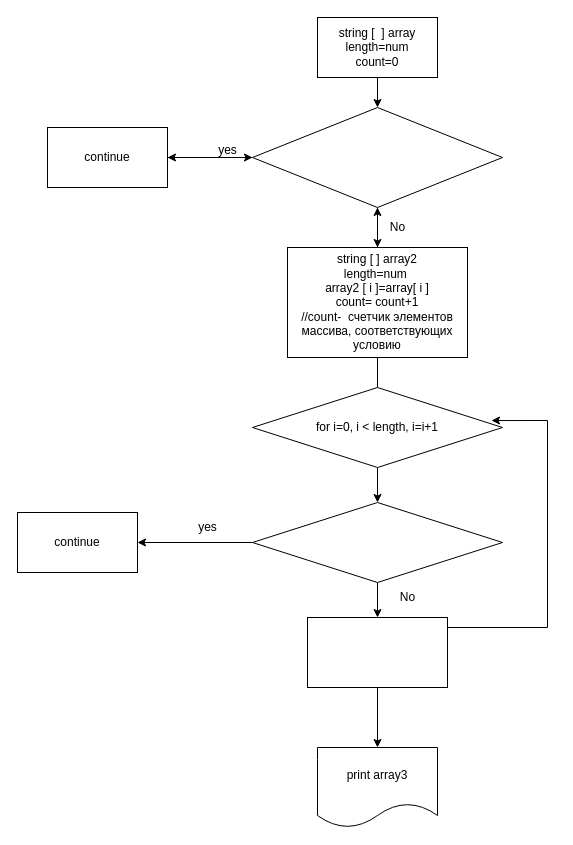
Some shapes in this 573 by 845 pixel diagram are drawn without their labels. The centre of each missing label's shape, as x and y in pixels:
for i=0,i < length, i=i+1 if array [ i ]>3: the point at 377,157
for k=0, k < length, k=k+1 if array[ k]==null: the point at 377,542
string [ ] array3 length=count array3[ i ]= array2 [ k ]: the point at 377,652
